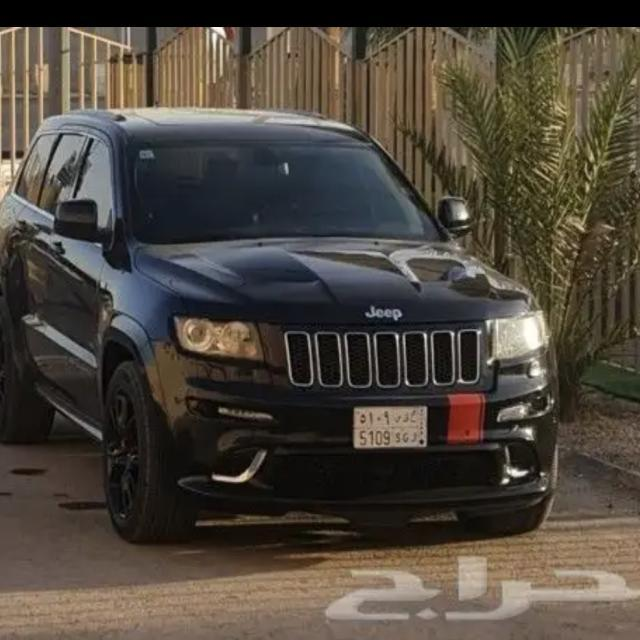license_plate: (354, 406, 428, 451)
